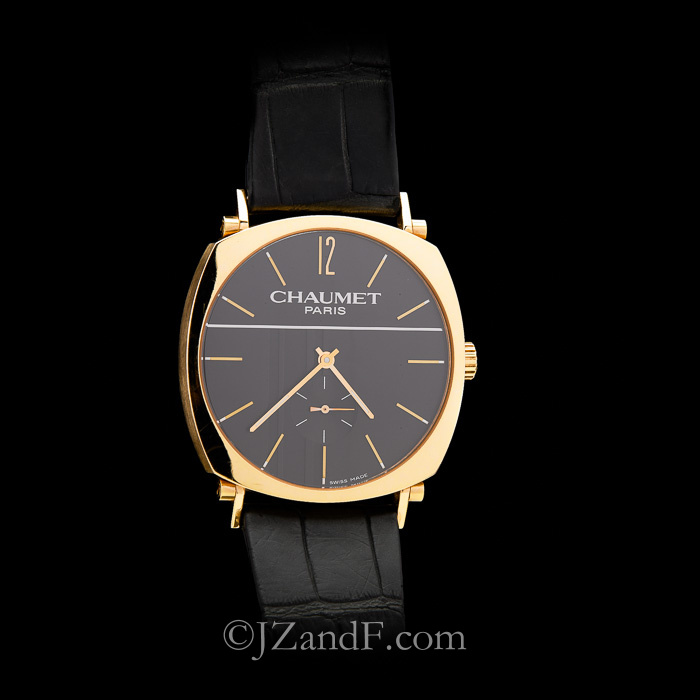clock: (200, 228, 453, 489)
